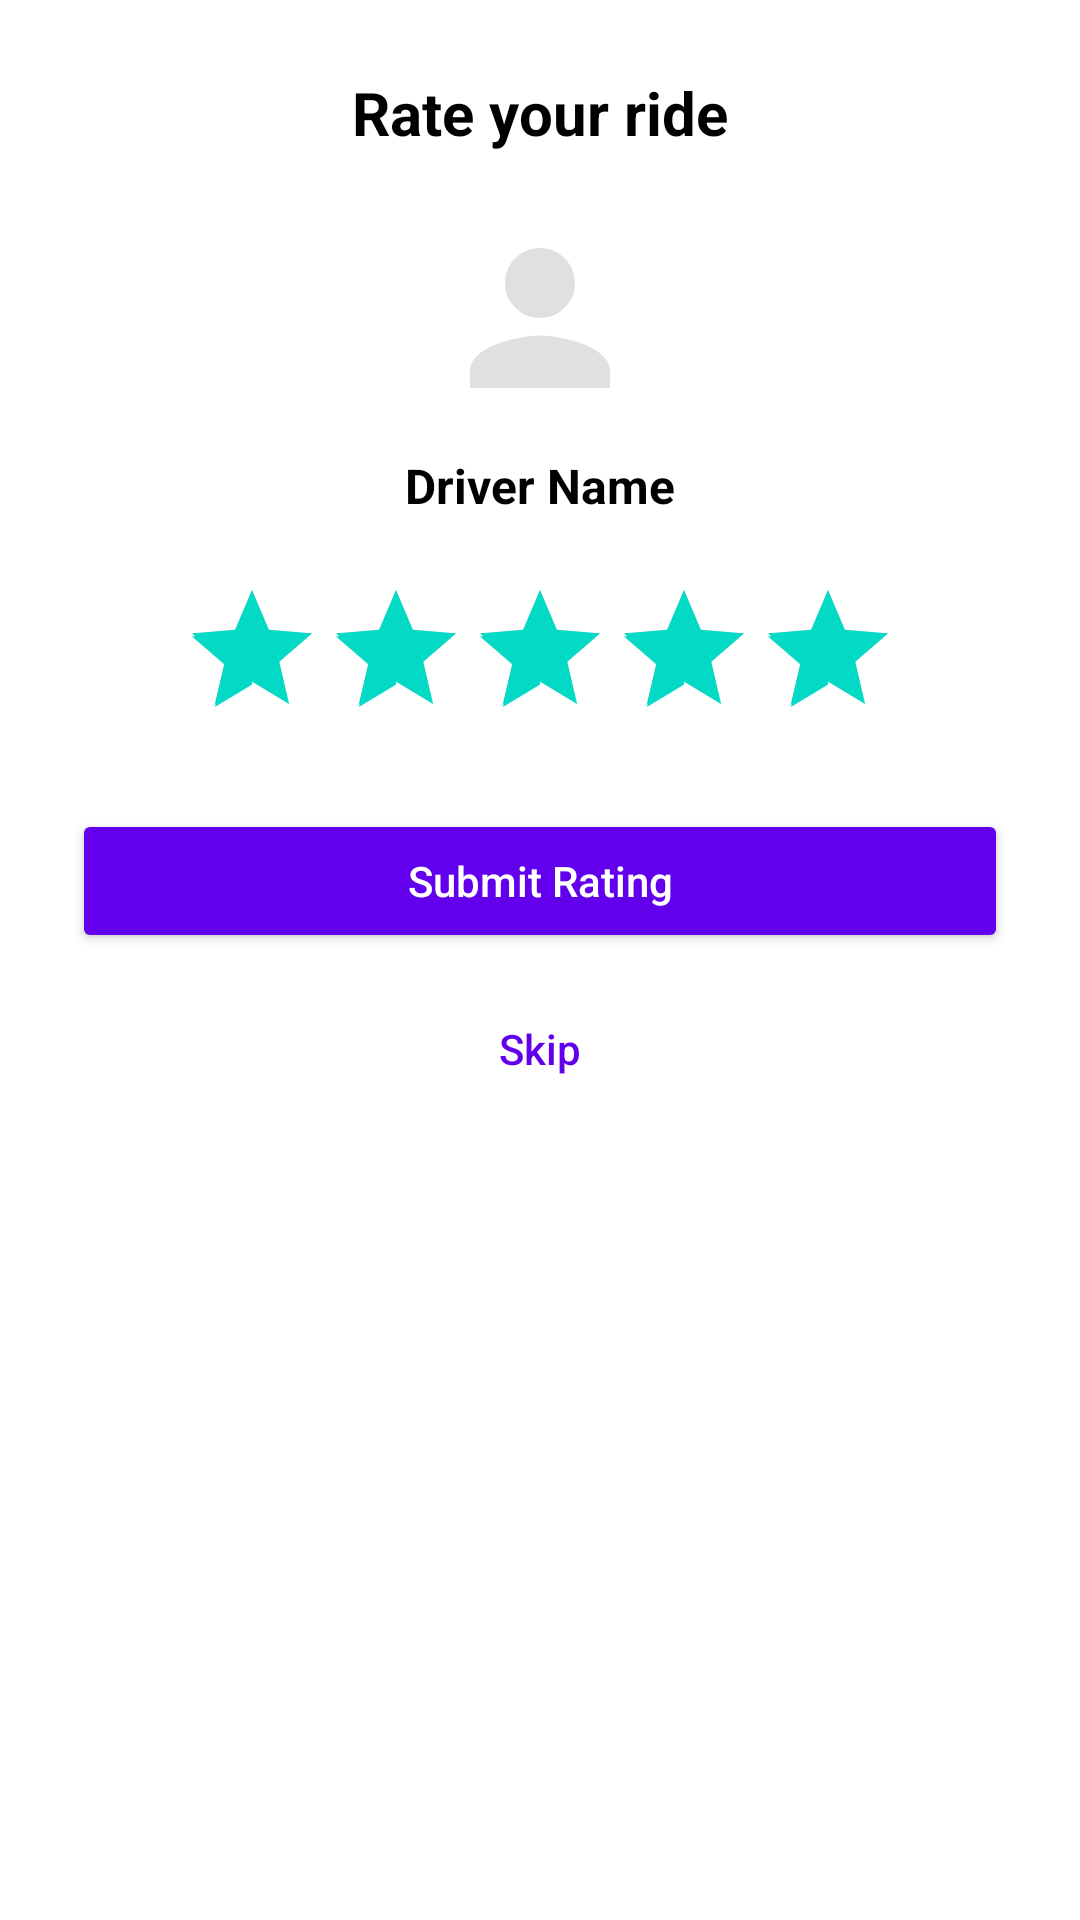

Where to tap for icons on this 1080 × 1920 app screen, as point (x, y):
Driver Profile Image: point (540, 318)
